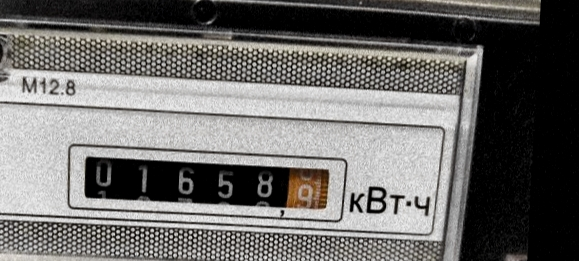0: (92, 156, 115, 189)
1: (136, 162, 151, 194)
5: (216, 167, 237, 200)
6: (176, 164, 198, 196)
8: (255, 167, 276, 200)
9: (295, 181, 314, 208)
screen: (58, 134, 353, 228)
